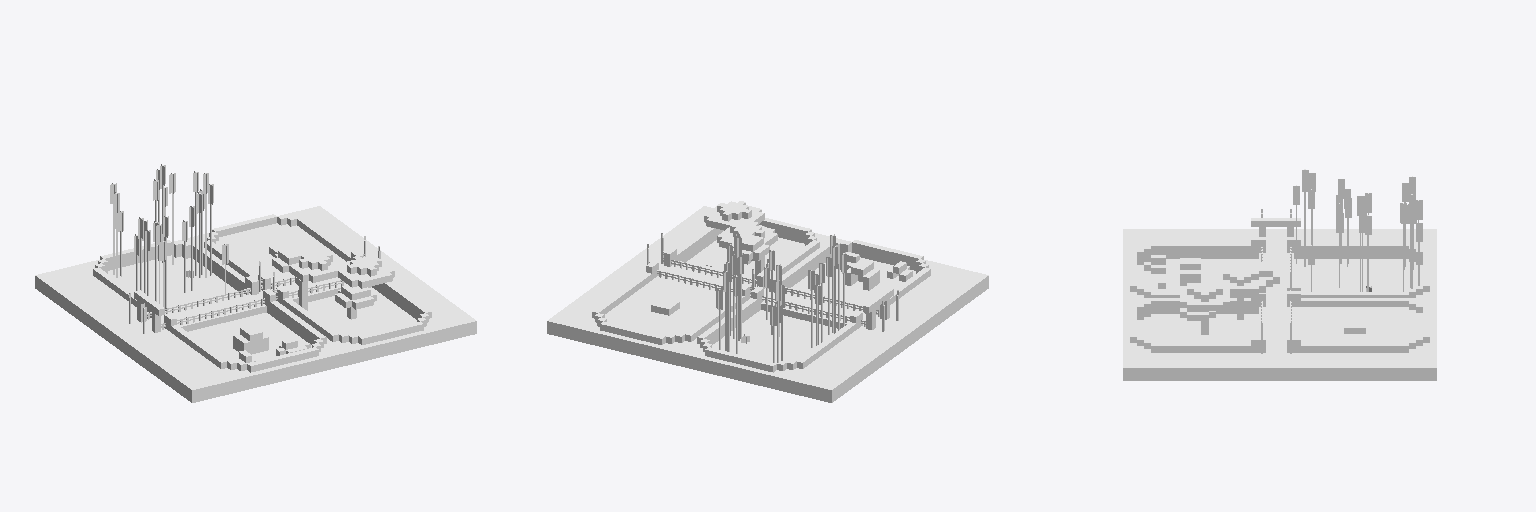
Rendered from zoo2.obj.
The picture shows the model from 3 angles: view 1: azimuth 30°, elevation 25°; view 2: azimuth 150°, elevation 25°; view 3: azimuth 270°, elevation 25°; orthographic projection.
Visible parts, largest first — view 1: zo_og__-7_-62_-24_to_38_319_19; view 2: zo_og__-7_-62_-24_to_38_319_19; view 3: zo_og__-7_-62_-24_to_38_319_19.
Boxes of the visible parts, x1=… form: zo_og__-7_-62_-24_to_38_319_19: x1=35, y1=164, x2=476, y2=402; zo_og__-7_-62_-24_to_38_319_19: x1=547, y1=201, x2=988, y2=402; zo_og__-7_-62_-24_to_38_319_19: x1=1123, y1=169, x2=1436, y2=380.
Bounding box in the file's own units: 4.6 × 1.7 × 4.4.